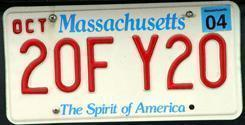placa de veiculo: (7, 7, 240, 118)
